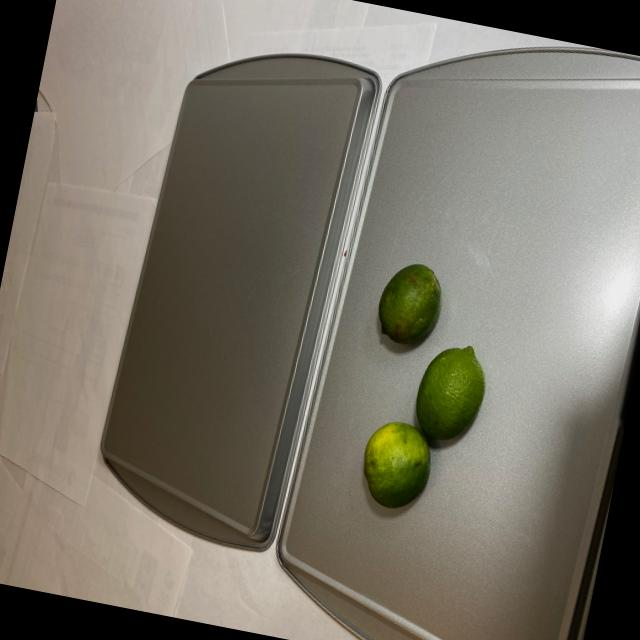lemon: (337, 254, 506, 528)
